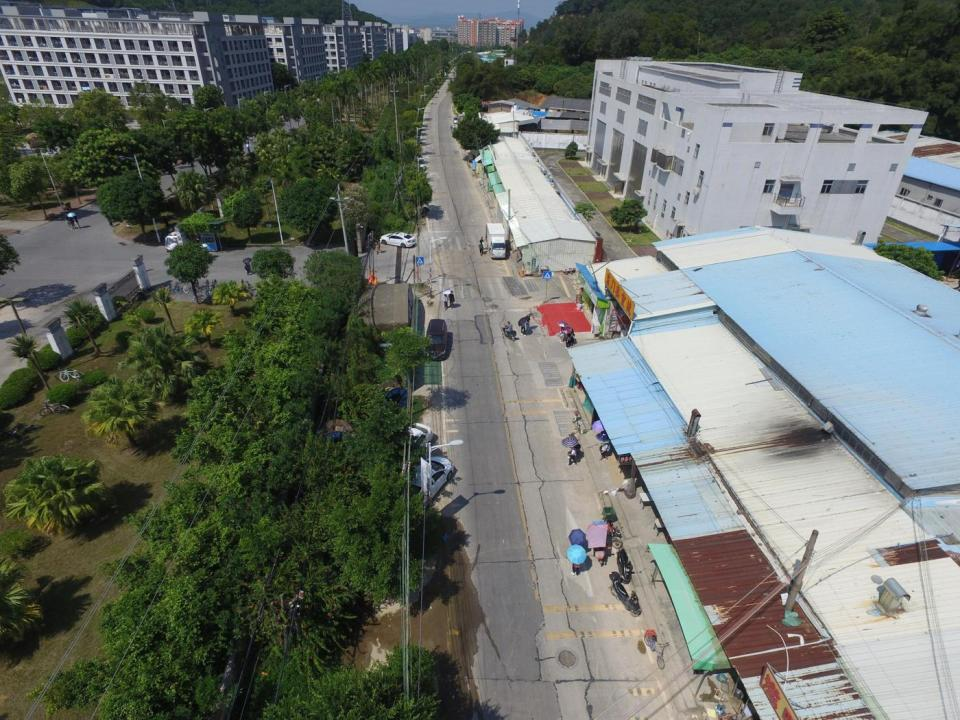car: (400, 456, 454, 515), (403, 423, 432, 466), (379, 232, 416, 248), (453, 116, 460, 124)
van: (426, 320, 450, 360), (485, 222, 507, 259)
